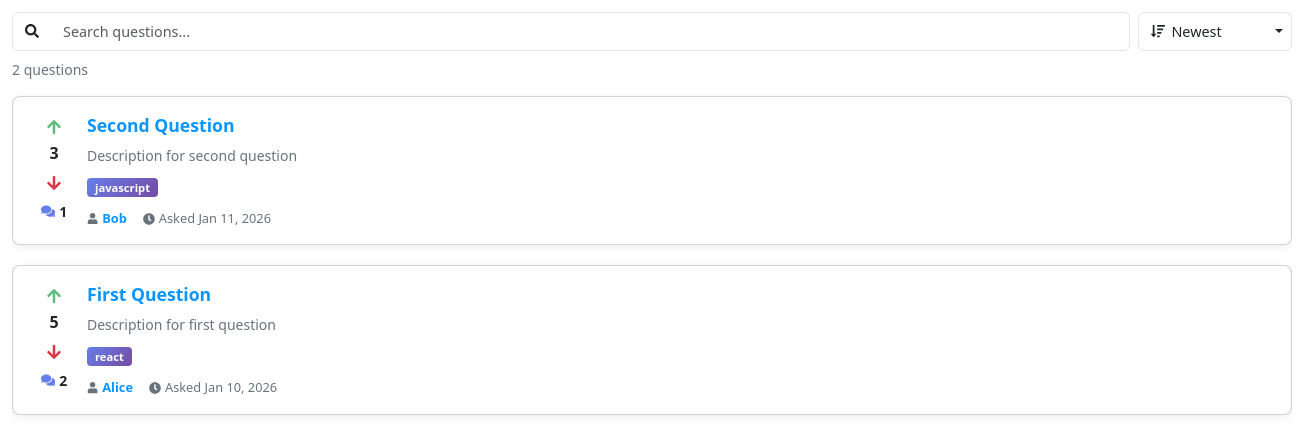
Scenario: QuestionList Component › filters questions by search query
The image size is (1304, 433).
Type "First" into the field with placeholder "Search questions...". click: (590, 31)
box: 51,12 -> 1130,51
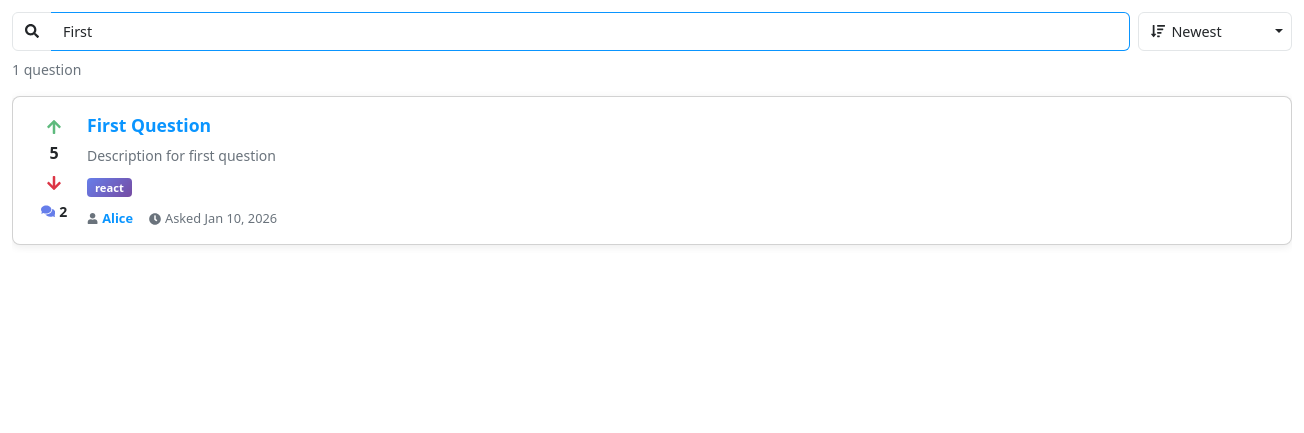
Expected: the link "First Question" is shown, 87,113 -> 211,137
Expected: the link "Second Question" is gone
